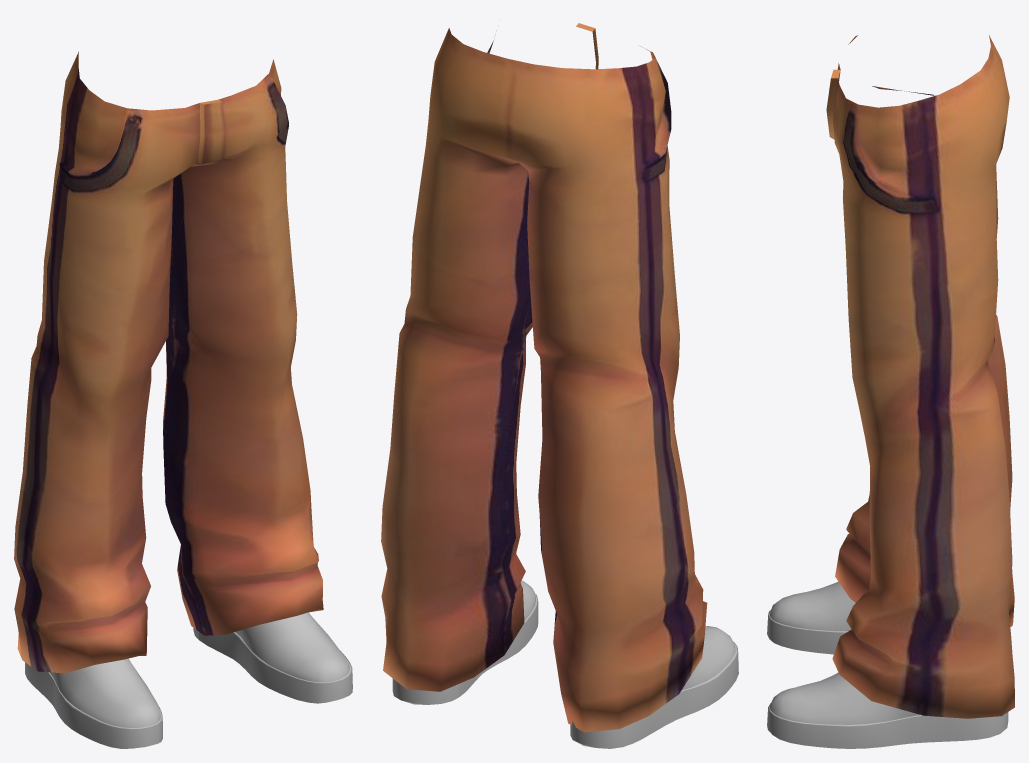
The picture shows the model from 3 angles, left to right: view 1: azimuth 30°, elevation 25°; view 2: azimuth 150°, elevation 25°; view 3: azimuth 270°, elevation 25°; orthographic projection. The views are drawn at different scales.
Visible parts, largest first — view 1: Wolf3D_Outfit_Bottom.002, Wolf3D_Outfit_Footwear.001; view 2: Wolf3D_Outfit_Bottom.002, Wolf3D_Outfit_Footwear.001; view 3: Wolf3D_Outfit_Bottom.002, Wolf3D_Outfit_Footwear.001.
Part boxes in pixels (x1,y1,x2,y2): Wolf3D_Outfit_Bottom.002: (14, 51, 323, 673); Wolf3D_Outfit_Footwear.001: (25, 612, 352, 748); Wolf3D_Outfit_Bottom.002: (381, 23, 707, 732); Wolf3D_Outfit_Footwear.001: (392, 580, 738, 748); Wolf3D_Outfit_Bottom.002: (826, 35, 1014, 718); Wolf3D_Outfit_Footwear.001: (767, 581, 1008, 748).
Size of the model in its own units: 4.84 by 10.47 by 3.69.
Materials: 3 (1 with a texture image).
